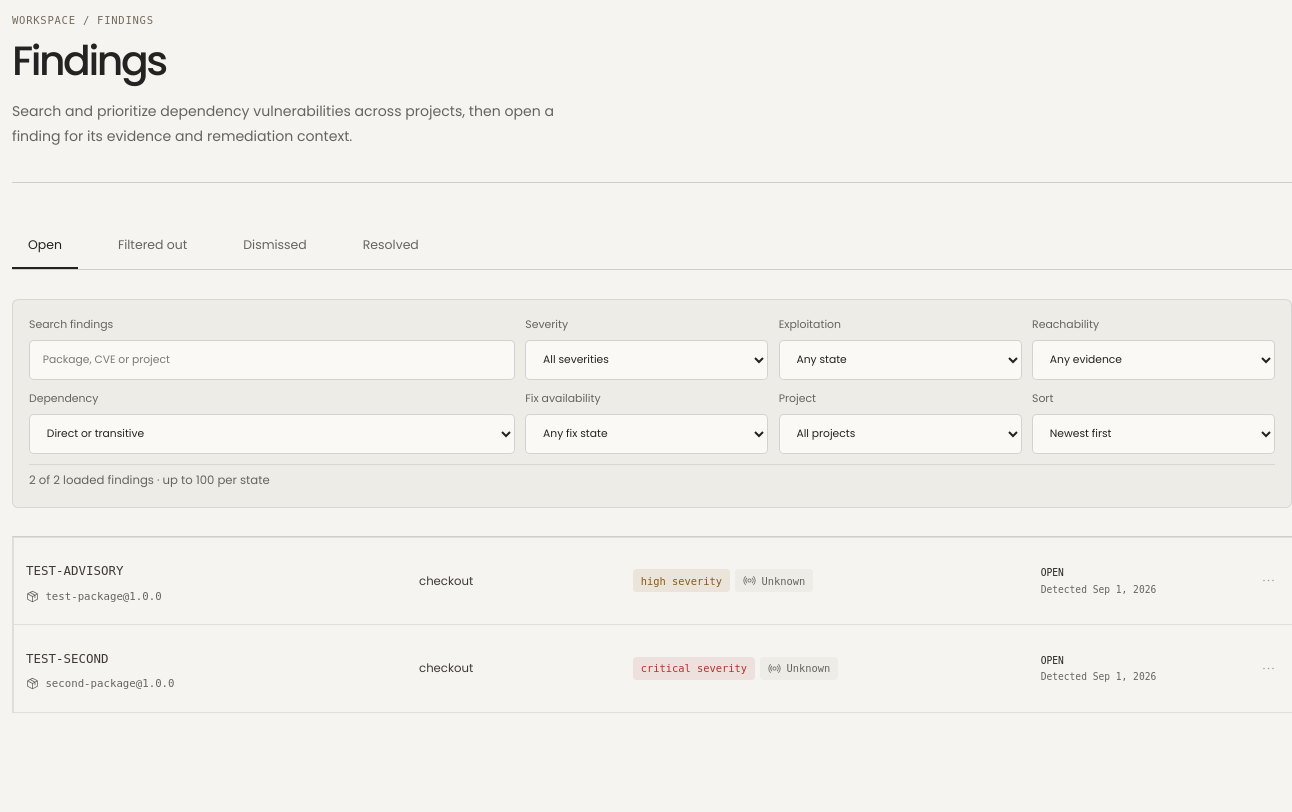
rebuilt workspace interactions › combines finding severity and text search within the declared loaded limit
Expected: the link "TEST-ADVISORY" is shown, [26,563,124,578]
Select "critical" in the dropdown labelled "Severity" at (647, 360), box [525,340,768,380]
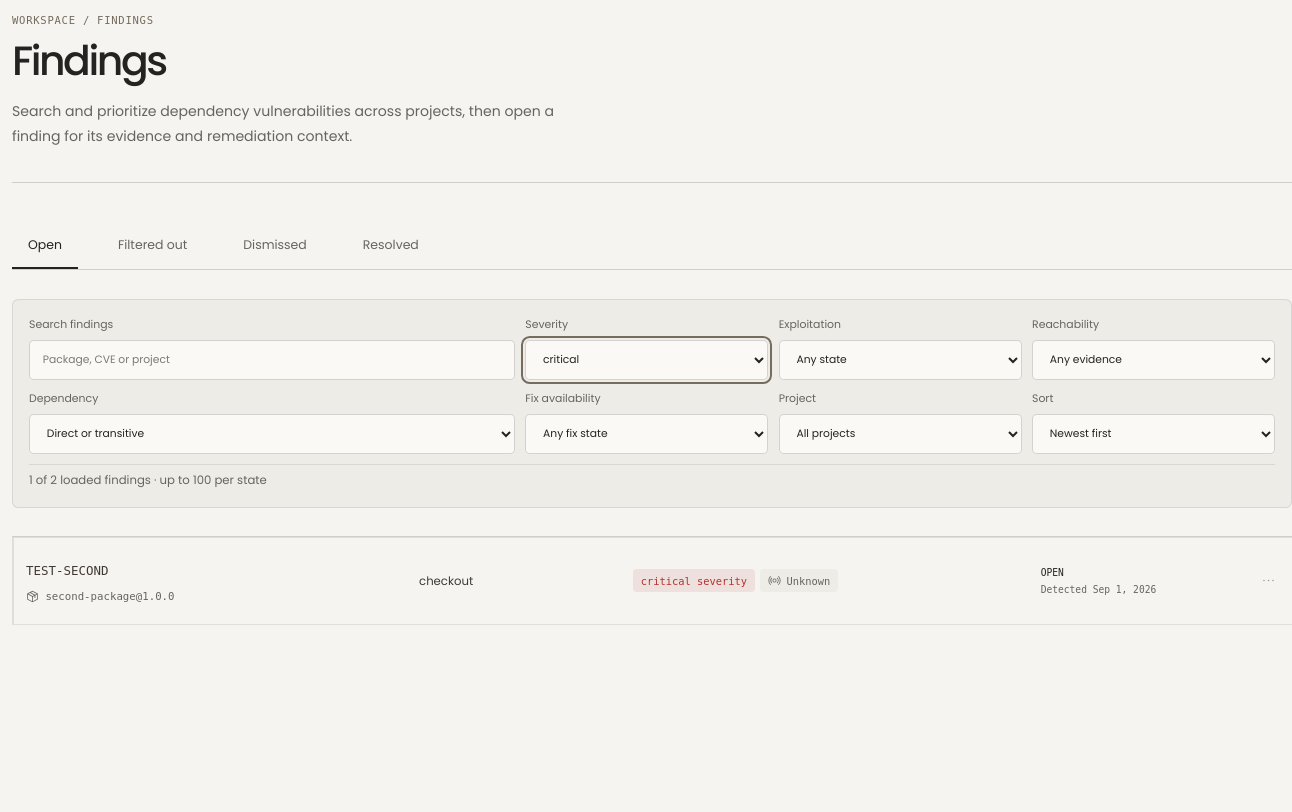
Expected: the link "TEST-SECOND" is shown, [26,563,109,578]
Expected: the link "TEST-ADVISORY" is gone
Type "does-not-exist" into the search field at (272, 360), box [29,340,515,380]
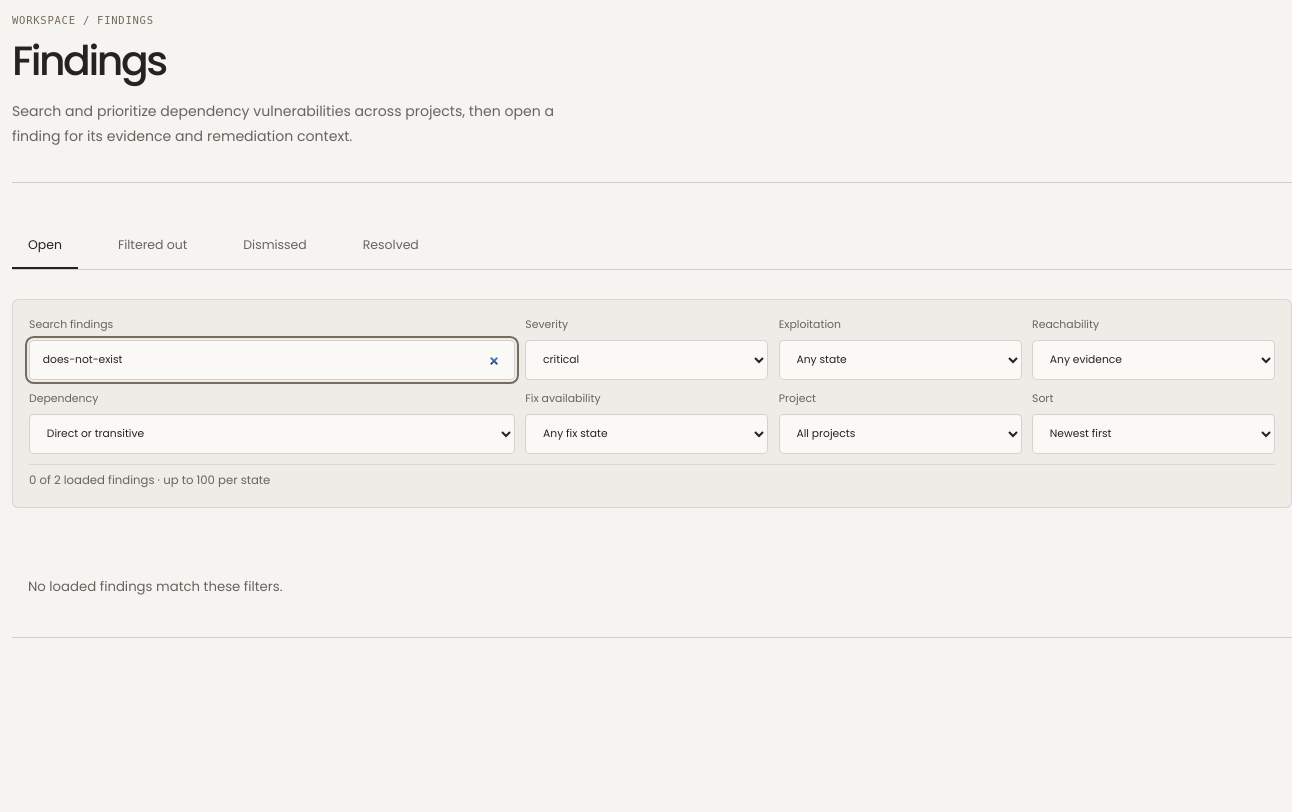
Expected: the text "No loaded findings match these filters." is shown, [28,577,282,596]
Expected: the text "0 of 2 loaded findings · up to 100 per state" is shown, [29,464,1275,491]
